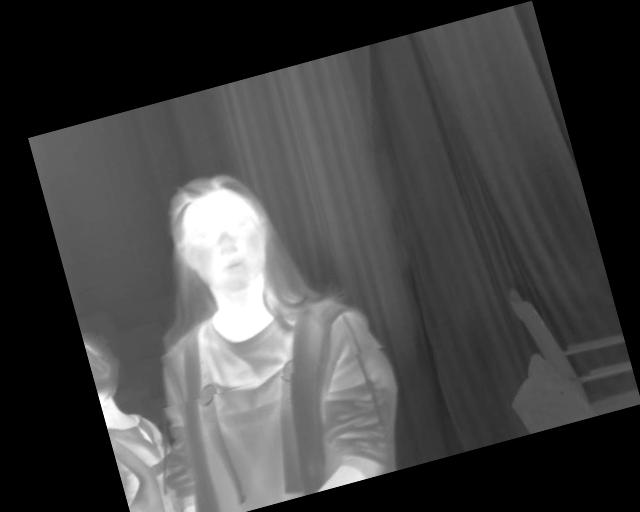face: (161, 163, 279, 302)
